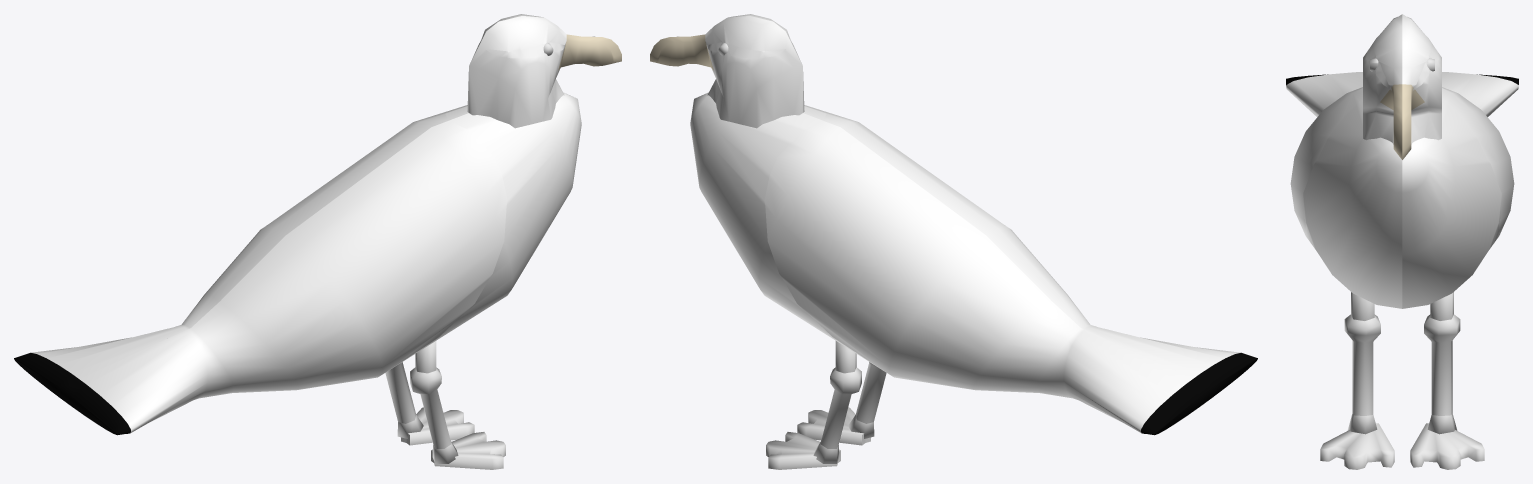
Rendered from Seagull.fbx.
3 renders of one model, left to right at view 1: azimuth 30°, elevation 25°; view 2: azimuth 150°, elevation 25°; view 3: azimuth 270°, elevation 25°, orthographic. The views are drawn at different scales.
Parts seen in each view (by area): view 1: Gruppe#299_001, Gruppe#305_001, Gruppe#299_002, Gruppe#301_001, Gruppe#301_003, Gruppe#296_001, Gruppe#296_004; view 2: Gruppe#299_002, Gruppe#305_004, Gruppe#299_001, Gruppe#301_003, Gruppe#301_001, Gruppe#296_003, Gruppe#296_002; view 3: Gruppe#299_002, Gruppe#299_001, Gruppe#305_004, Gruppe#305_001, Gruppe#301_003, Gruppe#301_001, Gruppe#296_004, Gruppe#296_002, Gruppe#296_003, Gruppe#296_001.
Part boxes in pixels (x1,y1,x2,y2): Gruppe#299_001: (65, 93, 581, 435); Gruppe#305_001: (469, 16, 621, 128); Gruppe#299_002: (14, 93, 570, 401); Gruppe#301_001: (410, 341, 458, 463); Gruppe#301_003: (385, 362, 423, 438); Gruppe#296_001: (434, 443, 505, 469); Gruppe#296_004: (406, 411, 474, 445); Gruppe#299_002: (690, 93, 1206, 435); Gruppe#305_004: (650, 16, 802, 128); Gruppe#299_001: (701, 93, 1257, 401); Gruppe#301_003: (813, 341, 861, 463); Gruppe#301_001: (848, 362, 886, 438); Gruppe#296_003: (766, 443, 837, 469); Gruppe#296_002: (797, 411, 865, 445); Gruppe#299_002: (1402, 72, 1518, 308); Gruppe#299_001: (1286, 72, 1402, 308); Gruppe#305_004: (1402, 14, 1441, 159); Gruppe#305_001: (1363, 14, 1402, 159); Gruppe#301_003: (1424, 292, 1460, 434); Gruppe#301_001: (1344, 292, 1380, 434); Gruppe#296_004: (1410, 423, 1451, 469); Gruppe#296_002: (1353, 423, 1394, 469); Gruppe#296_003: (1439, 430, 1484, 469); Gruppe#296_001: (1320, 430, 1365, 469).
Bounding box in the file's own units: 21.22 × 15.04 × 6.84.
